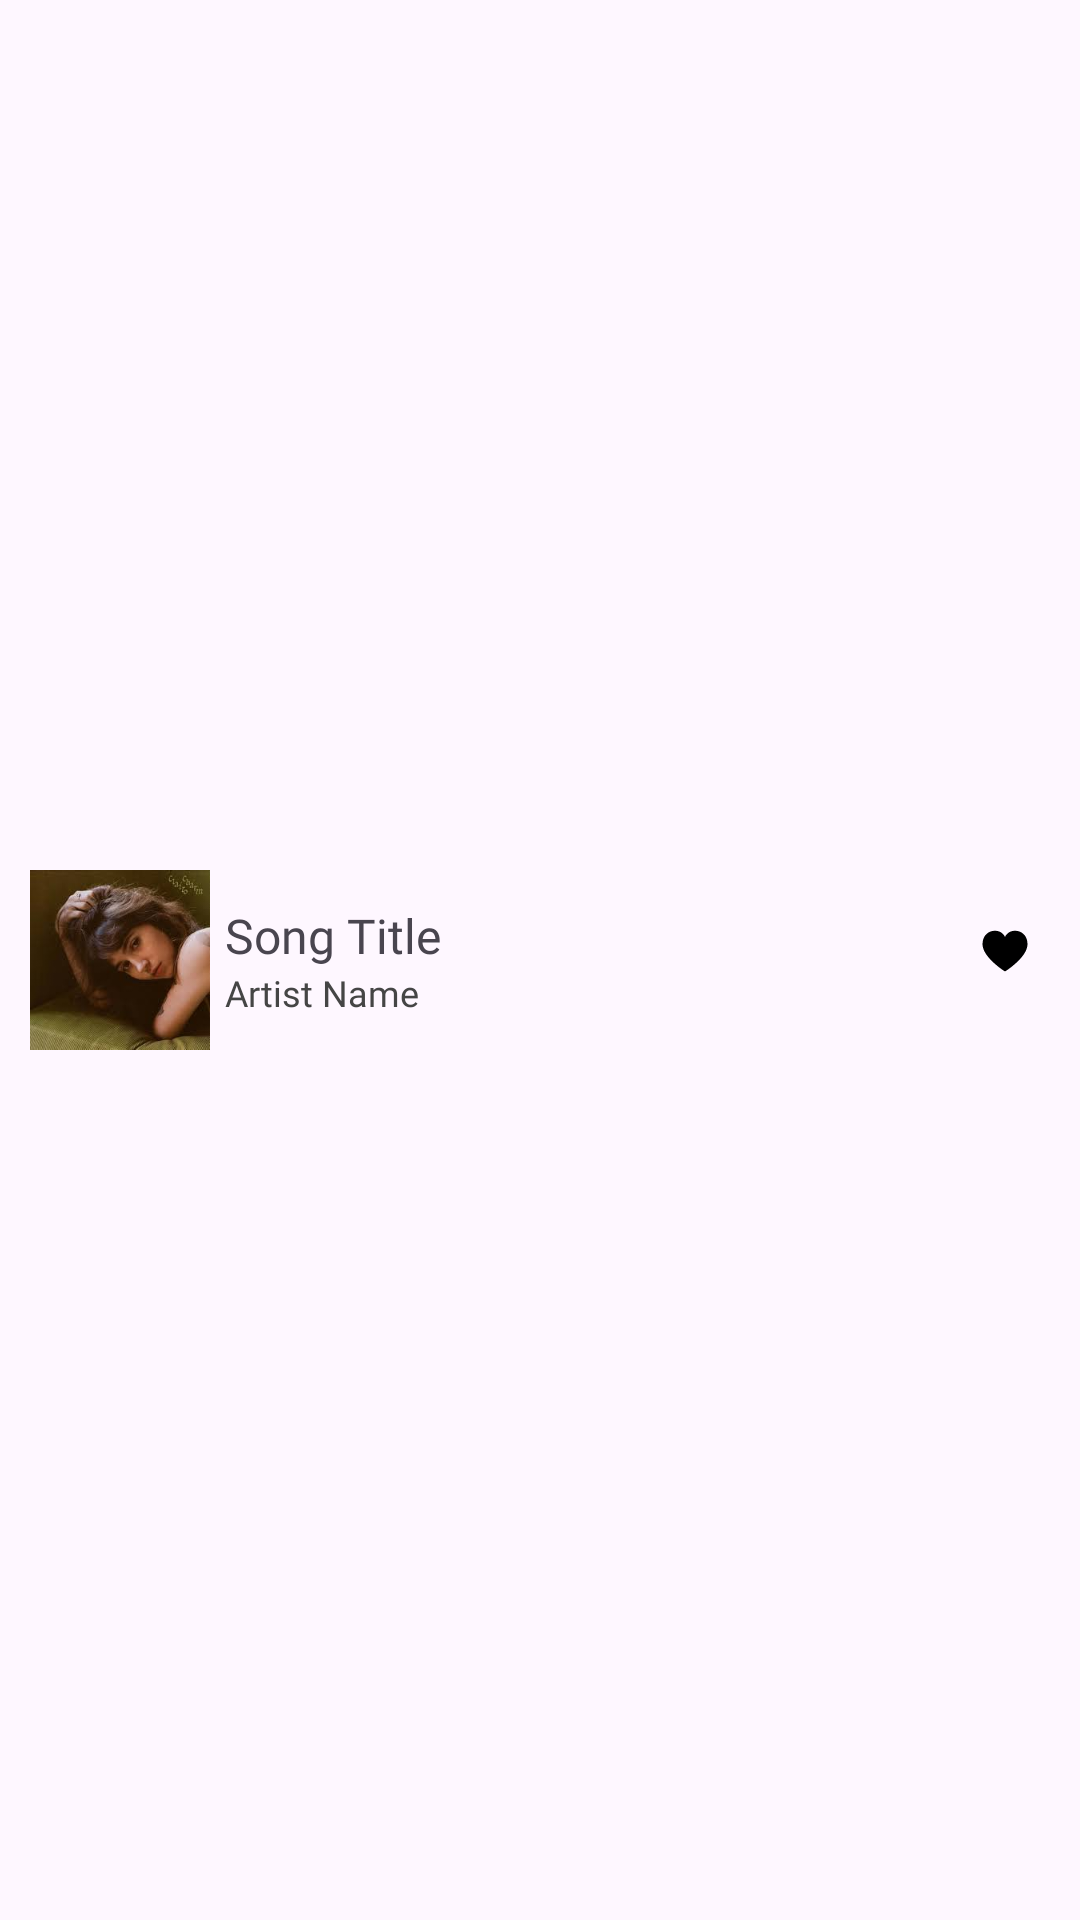

Where icons sit on this 1080*1920 app screen, as BBox(x1, y1, x2, y2):
heart: BBox(982, 930, 1028, 972)
